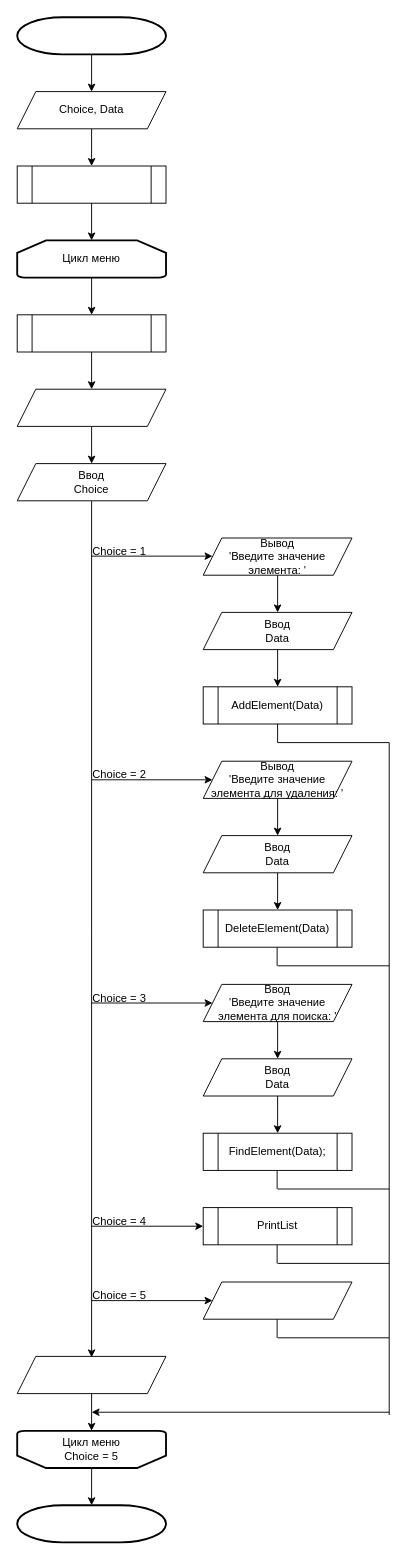
This 413x1559 diagram has some shape labels left out. Here are the shapes that lost their labels. From the top down, the box of each, then its label:
(16, 16, 166, 55): Начало
(16, 165, 166, 203): InitializeList
(16, 314, 166, 352): ShowMenu
(16, 388, 166, 426): Вывод 'Выберите действие: '
(202, 1281, 352, 1319): Вывод 'Выход из программы.'
(16, 1355, 166, 1394): Вывод 'Неверный выбор. Попробуйте снова.'
(16, 1504, 166, 1543): Конец
